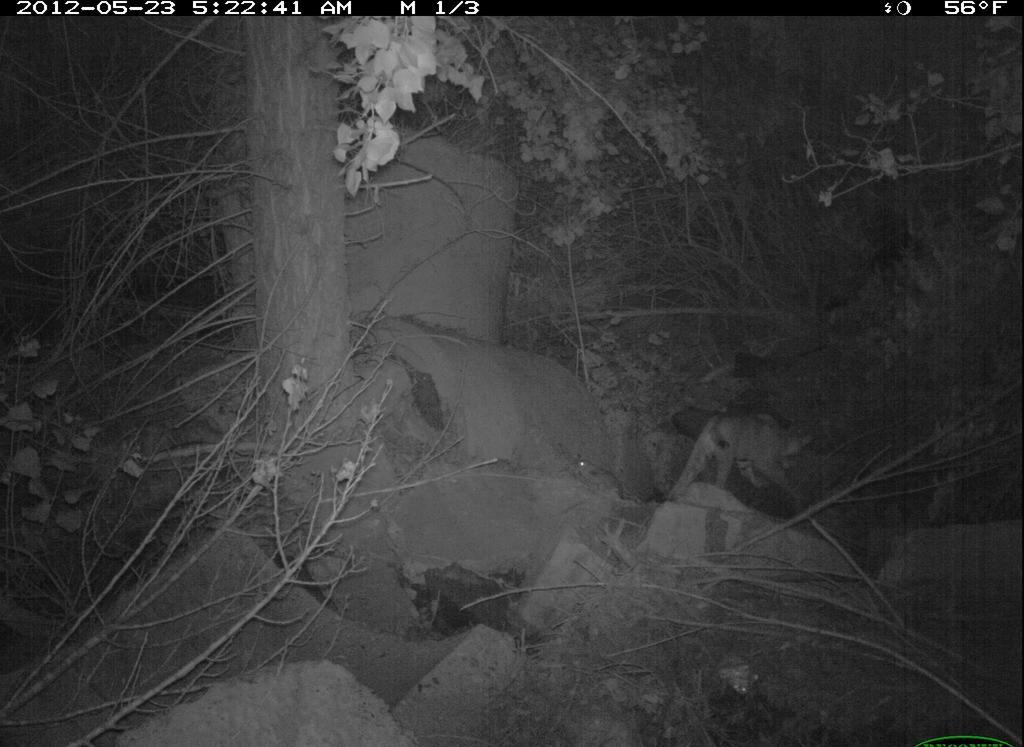rodent: (573, 452, 630, 505)
